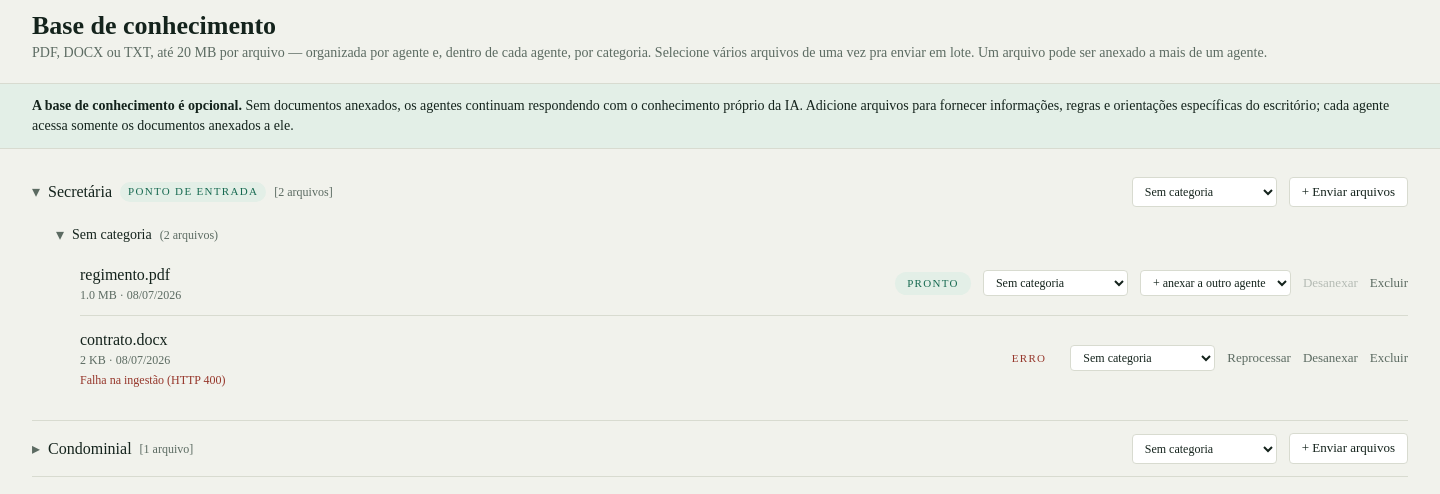
Test: KnowledgeBasePanel › exclui um arquivo após confirmação
The image size is (1440, 494).
Check: the text "regimento.pdf" is shown, box x1=80 y1=266 x2=170 y2=283
Click the button with aria-label "Excluir regimento.pdf": (1389, 283) x1=1370 y1=275 x2=1408 y2=292
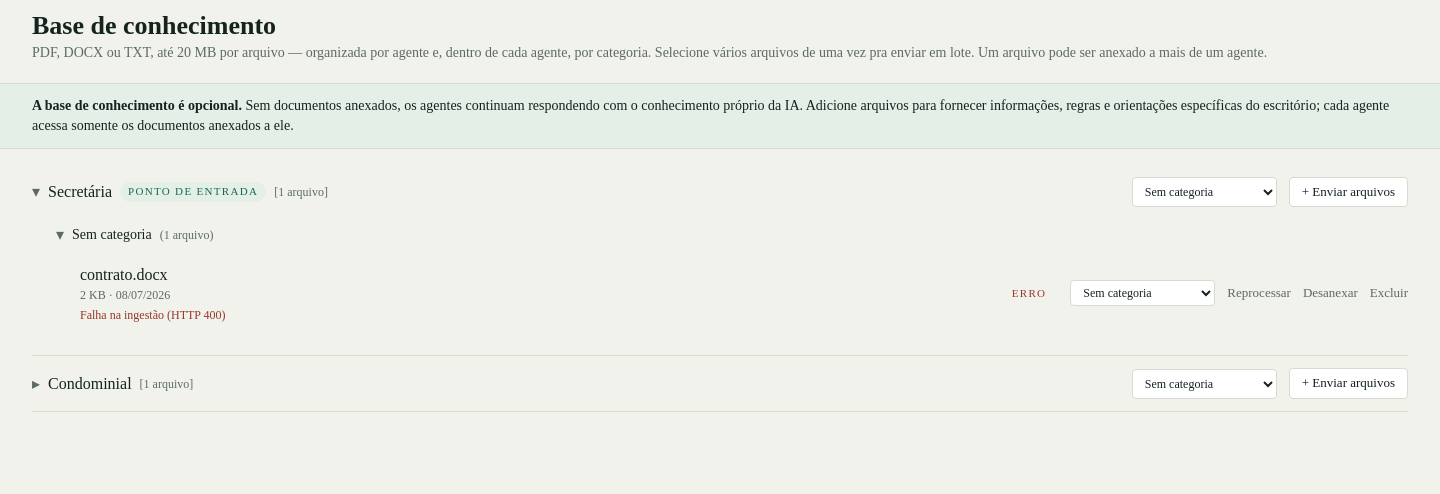
Check: the text "regimento.pdf" is gone
